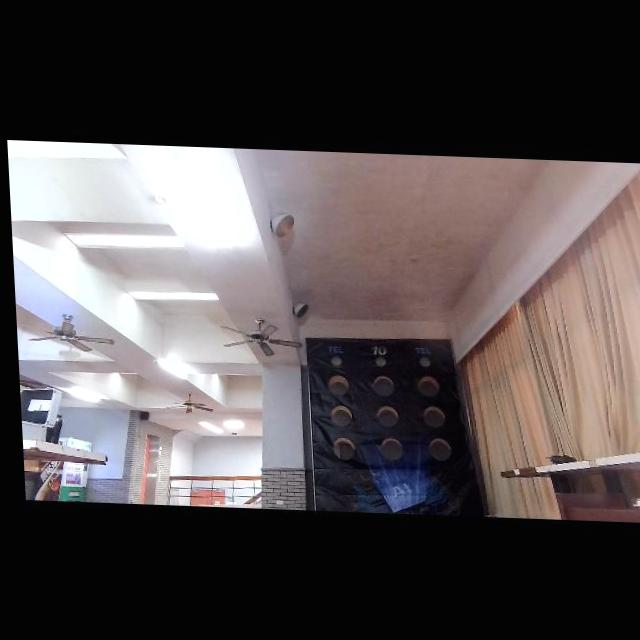hole: (372, 375, 395, 398), (334, 437, 356, 461), (376, 406, 399, 428), (429, 438, 452, 460), (381, 438, 403, 460), (331, 405, 352, 427), (424, 406, 445, 428), (418, 375, 439, 396), (329, 374, 349, 395), (331, 355, 342, 366), (375, 358, 387, 368), (420, 357, 431, 367)
